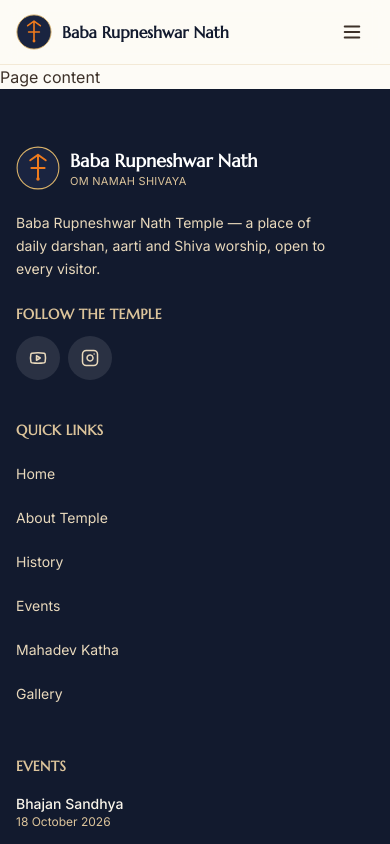
Test: Header — mobile menu › closes after choosing a page
Click the button named "Open main menu": coordinates (352, 32) 330,10 -> 374,54
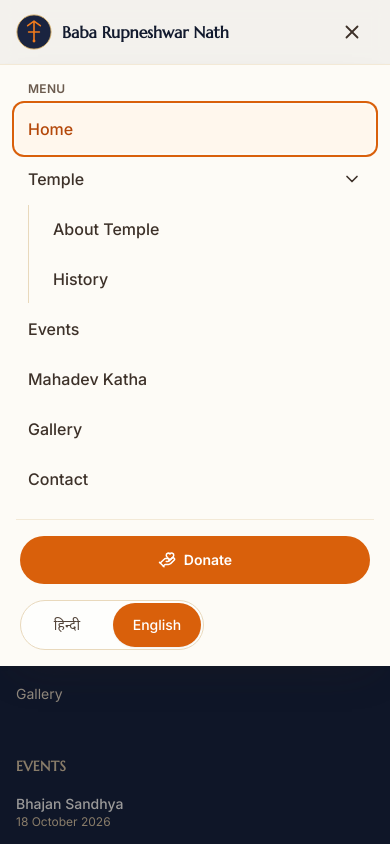
Click the link "Gallery": coordinates (55, 429) 28,419 -> 82,439
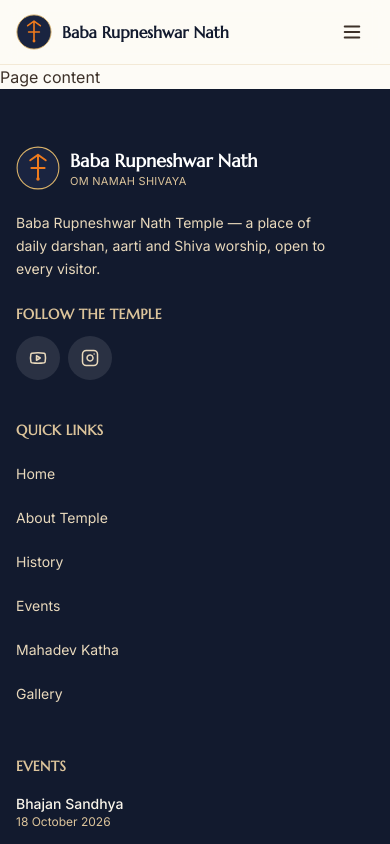
Result: the button named "Open main menu" is collapsed at 330,10 -> 374,54
